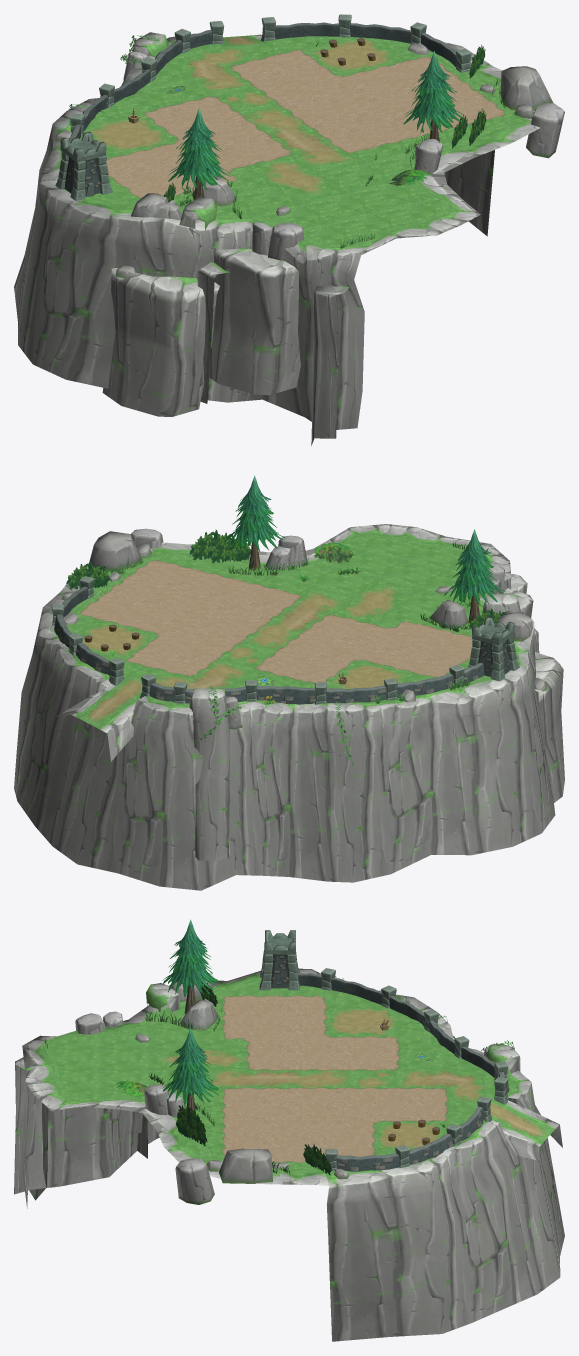
The model's file is gro001_02.fbx.
3 views of the same model, one above another, from view 1: azimuth 30°, elevation 25°; view 2: azimuth 150°, elevation 25°; view 3: azimuth 270°, elevation 25° (orthographic). The views are drawn at different scales.
Visible parts, largest first — view 1: stage, mat, obj, ap; view 2: stage, obj, mat, ap; view 3: stage, mat, obj, ap.
Part boxes in pixels (<box>): stage: <box>14,33,539,445</box>; mat: <box>106,52,500,197</box>; obj: <box>55,14,564,278</box>; ap: <box>58,35,505,248</box>; stage: <box>14,524,564,890</box>; obj: <box>52,528,547,860</box>; mat: <box>84,562,472,682</box>; ap: <box>66,475,505,765</box>; stage: <box>14,968,564,1341</box>; mat: <box>226,997,444,1160</box>; obj: <box>75,930,524,1204</box>; ap: <box>45,919,520,1175</box>.
Bounding box in the file's own units: 2211 × 1220 × 2273.
